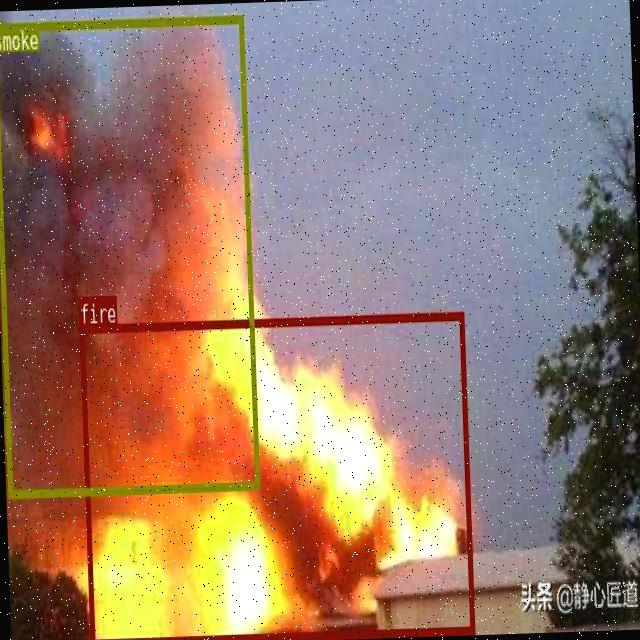fire: (78, 309, 473, 640)
smoke: (0, 13, 258, 497)
